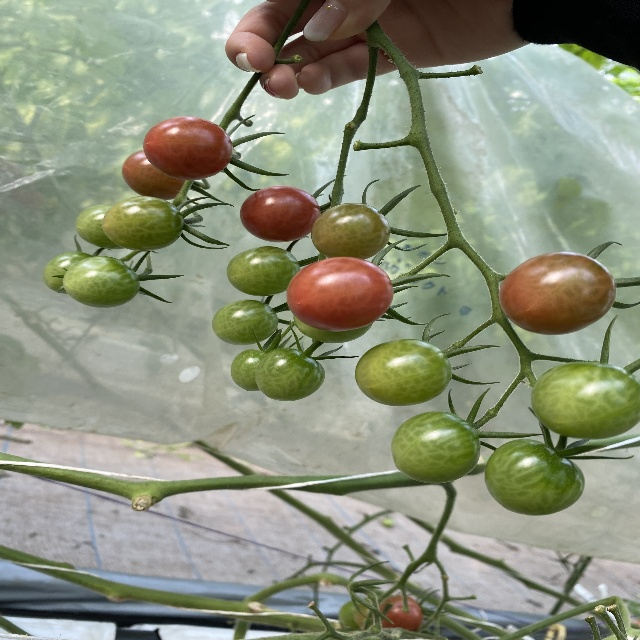l_fully_ripened: (285, 257, 396, 331), (144, 116, 233, 181), (239, 186, 320, 242)
l_green: (529, 361, 639, 441), (484, 439, 584, 516), (390, 411, 481, 485), (355, 339, 452, 406), (310, 202, 390, 261), (102, 196, 184, 251), (63, 256, 139, 308), (254, 348, 325, 402), (227, 246, 301, 295), (211, 300, 277, 346), (294, 316, 373, 344), (76, 204, 124, 250), (45, 252, 92, 294), (231, 350, 266, 392)
l_half_ripened: (499, 253, 616, 335), (123, 151, 186, 201)
